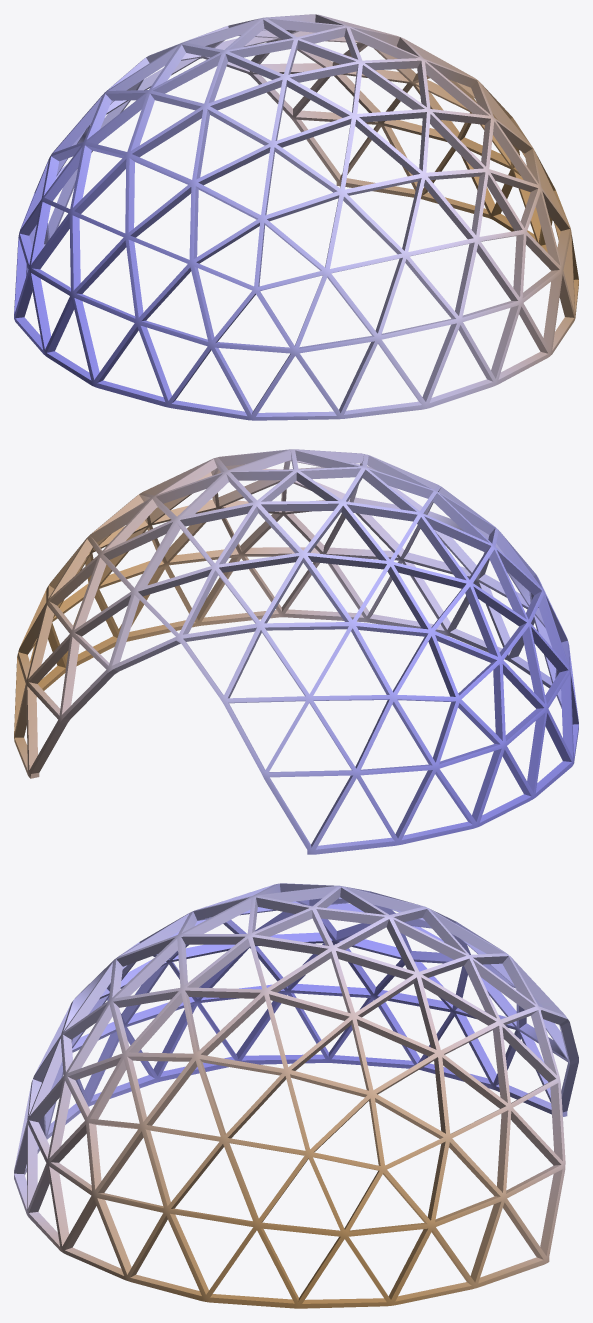
The model's file is ETC0110002.fbx.
3 renders of one model, top to bottom at view 1: azimuth 30°, elevation 25°; view 2: azimuth 150°, elevation 25°; view 3: azimuth 270°, elevation 25°, orthographic. The views are drawn at different scales.
Parts seen in each view (by area): view 1: smETC0110002; view 2: smETC0110002; view 3: smETC0110002.
Boxes of the visible parts, box(x1,y1,x2,y2) form: smETC0110002: box(14, 14, 578, 420); smETC0110002: box(14, 449, 578, 854); smETC0110002: box(14, 883, 578, 1308).
Size of what is drawn, in the model's own units: 737 by 379 by 704.
Materials: 1 (1 with a texture image).
